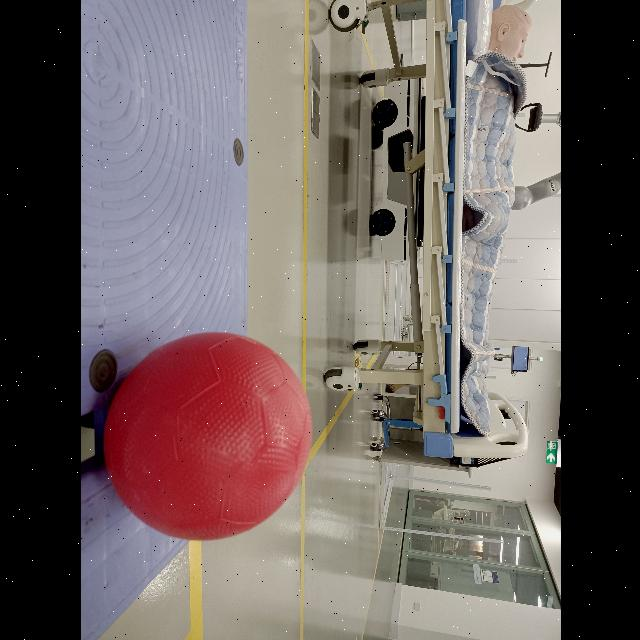R: (105, 340, 307, 536)
